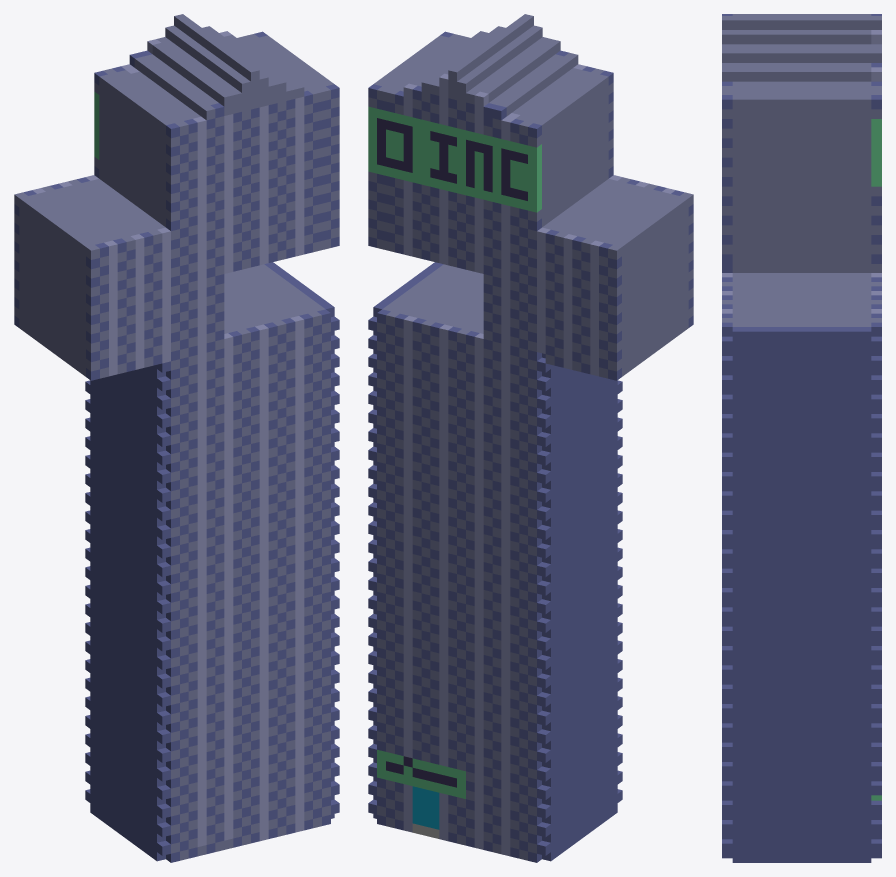
The model's file is torreD.obj.
3 renders of one model, left to right at view 1: azimuth 30°, elevation 25°; view 2: azimuth 150°, elevation 25°; view 3: azimuth 270°, elevation 25°, orthographic. The views are drawn at different scales.
Bounding box in the file's own units: 2.8 × 8.3 × 1.5.
